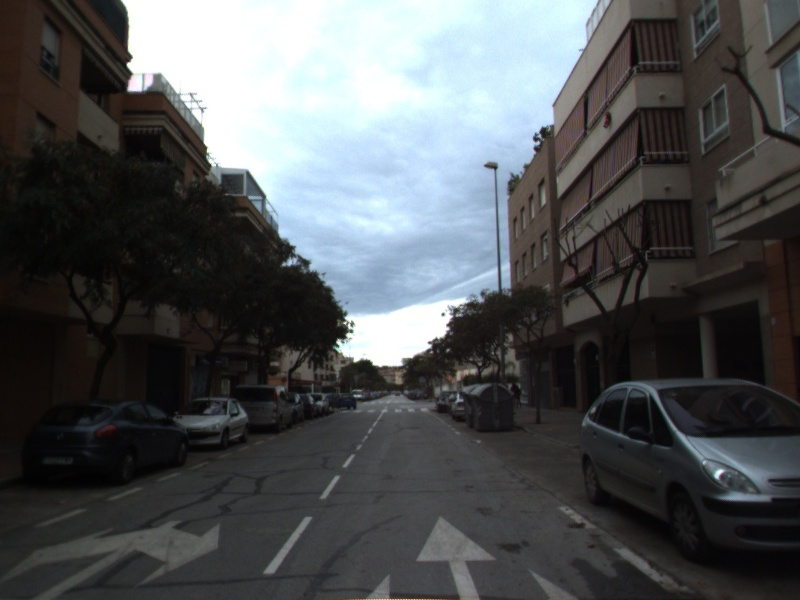STRAIGHT: (412, 510, 500, 600)
